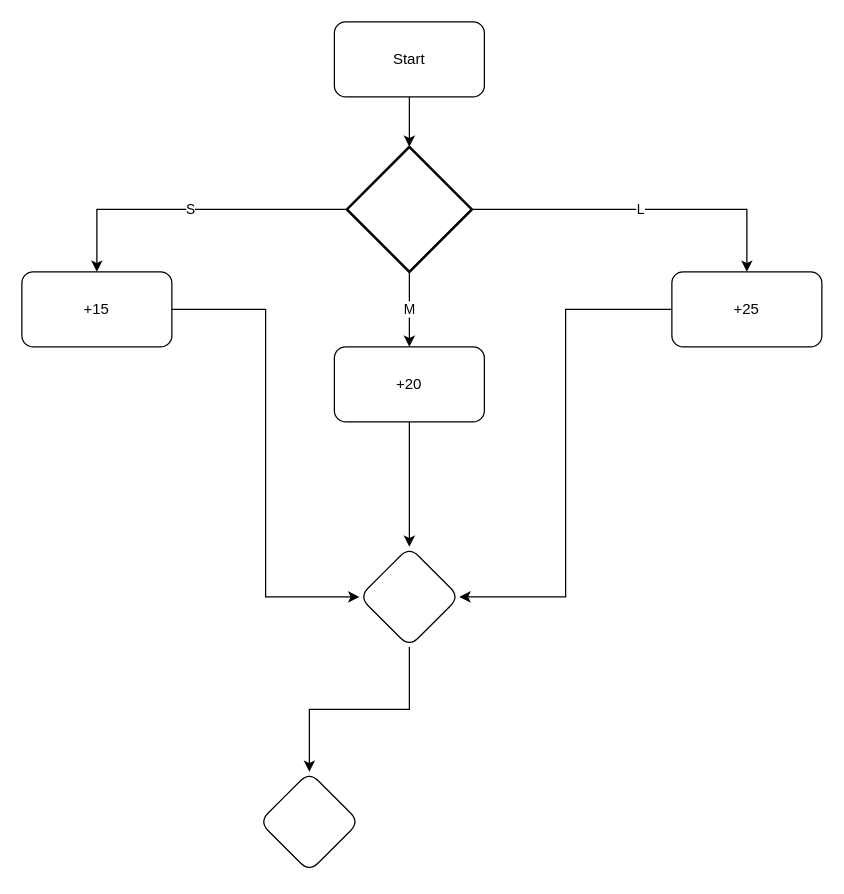
Image size: 844x894. Some labels were removed from this diagram. The centre of each missing label's shape, as x and y in pixels:
"Pepperoni?" belongs at (408,596).
"pizza size?" belongs at (408,208).
